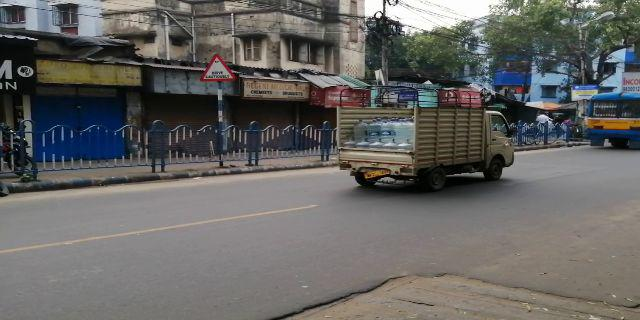Bus: (588, 94, 636, 141)
Minitruck: (334, 89, 514, 186)
